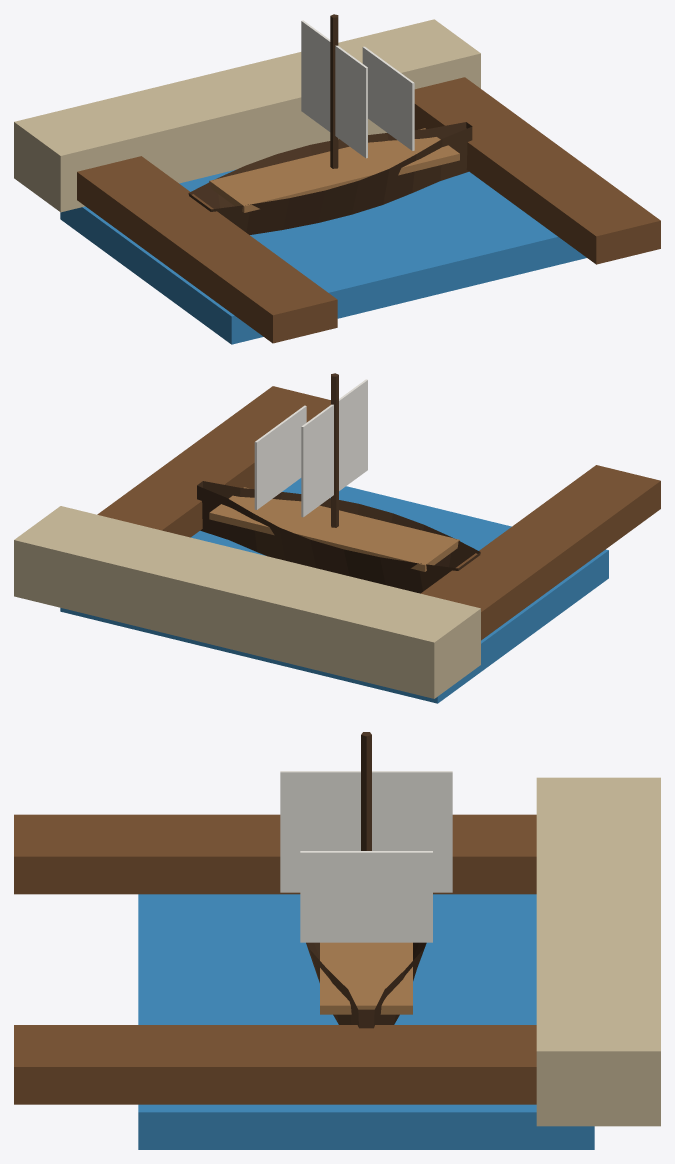
The model's file is building_seaport.fbx.
The picture shows the model from 3 angles, top to bottom: view 1: azimuth 30°, elevation 25°; view 2: azimuth 150°, elevation 25°; view 3: azimuth 270°, elevation 25°; orthographic projection. The views are drawn at different scales.
Visible parts, largest first — view 1: building_seaport; view 2: building_seaport; view 3: building_seaport.
Part boxes in pixels (box(x1,y1,x2,y2)): building_seaport: box(14, 14, 660, 344); building_seaport: box(14, 373, 660, 703); building_seaport: box(14, 732, 660, 1149).
Bounding box in the file's own units: 78 × 39 × 78.
